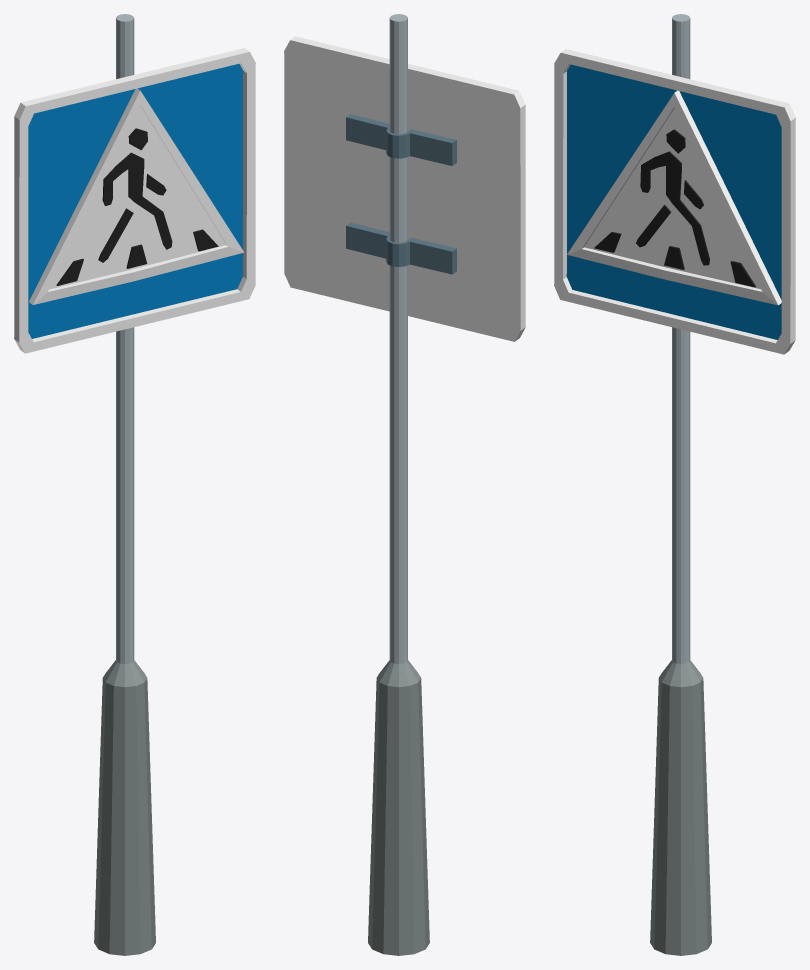
Rendered from strong_pilar_crosswalk.fbx.
3 views of the same model, side by side, from view 1: azimuth 30°, elevation 25°; view 2: azimuth 150°, elevation 25°; view 3: azimuth 330°, elevation 25° (orthographic).
Visible parts, largest first — view 1: crosswalk2.001, strong_pilar; view 2: crosswalk2.001, strong_pilar; view 3: crosswalk2.001, strong_pilar.
Boxes of the visible parts, x1,y1,x2,y2 form: crosswalk2.001: (14, 48, 255, 353); strong_pilar: (94, 14, 155, 955); crosswalk2.001: (284, 36, 525, 341); strong_pilar: (346, 14, 456, 955); crosswalk2.001: (554, 49, 795, 354); strong_pilar: (650, 14, 711, 955).
Bounding box in the file's own units: 85.98 × 321 × 19.51.
